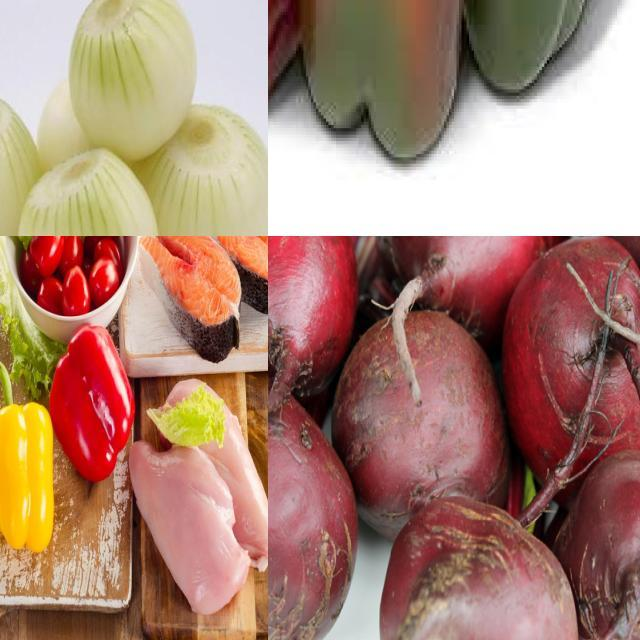beet: (332, 313, 510, 527), (506, 237, 640, 472), (378, 499, 579, 640), (269, 375, 359, 640), (561, 452, 640, 640), (376, 237, 562, 315), (269, 237, 356, 401)
bell_pepper: (276, 1, 487, 176), (435, 1, 640, 113), (53, 327, 137, 489), (1, 360, 58, 565)
onion: (76, 1, 196, 164), (125, 104, 269, 237), (14, 147, 166, 237), (1, 98, 39, 237)
tomato: (63, 269, 93, 317), (32, 237, 65, 275), (36, 279, 66, 315), (91, 263, 119, 301), (61, 237, 89, 270)
